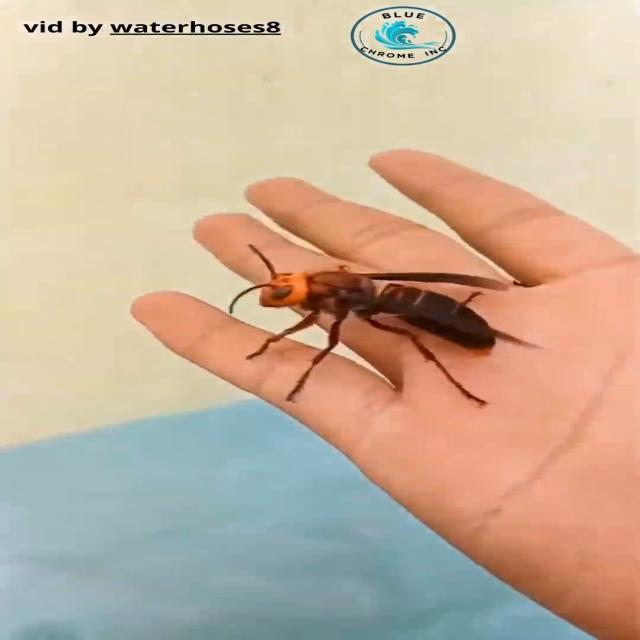Hornets: (227, 242, 542, 409)
